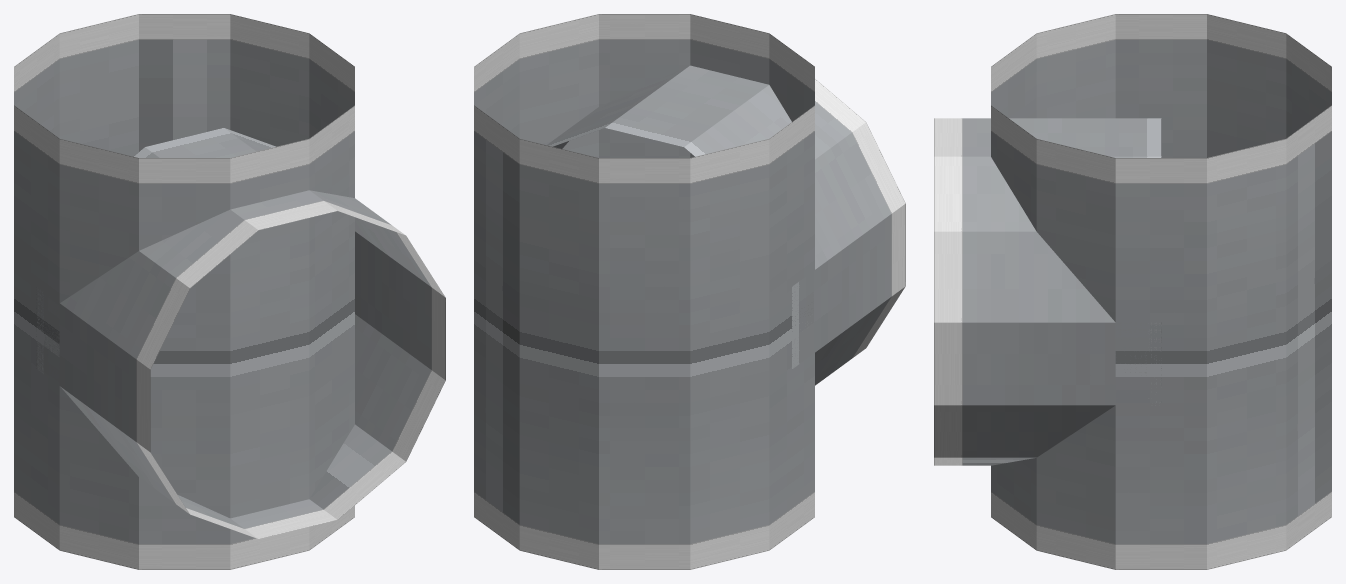
File: connection_11.obj
3 views of the same model, side by side, from view 1: azimuth 30°, elevation 25°; view 2: azimuth 150°, elevation 25°; view 3: azimuth 270°, elevation 25° (orthographic).
Bounding box in the file's own units: 0.75 × 1 × 0.875.
